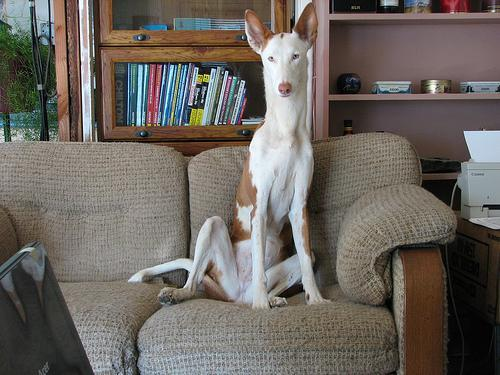Ibizan_hound: (127, 2, 332, 311)
